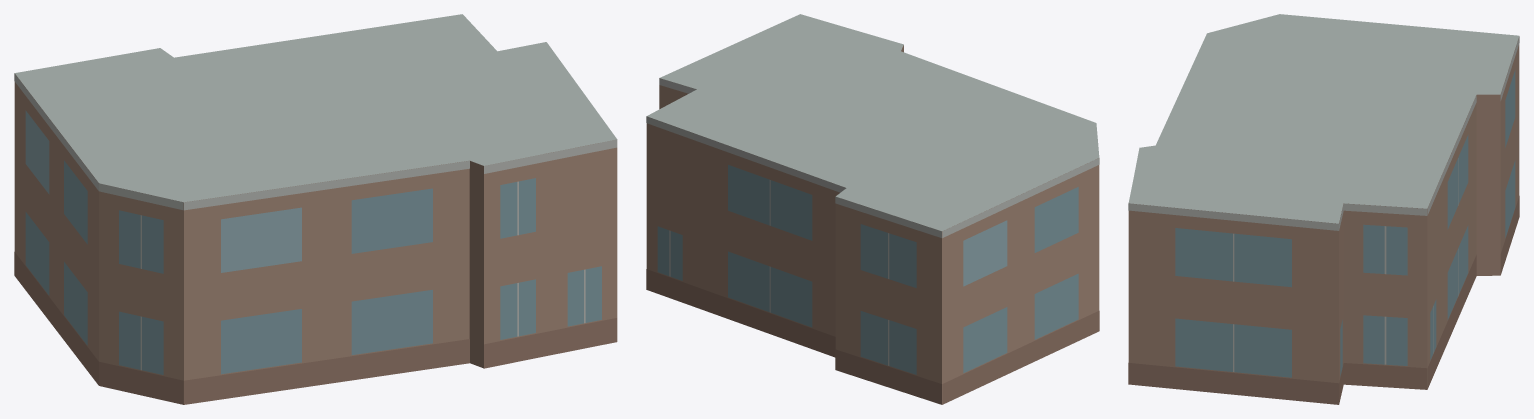
File: survey-upis-32968802.glb
The picture shows the model from 3 angles, left to right: view 1: azimuth 30°, elevation 25°; view 2: azimuth 150°, elevation 25°; view 3: azimuth 270°, elevation 25°; orthographic projection. The views are drawn at different scales.
Parts seen in each view (by area): view 1: survey-upis-32968802.tmp; view 2: survey-upis-32968802.tmp; view 3: survey-upis-32968802.tmp.
Part boxes in pixels (x1=…): survey-upis-32968802.tmp: x1=14, y1=14, x2=617, y2=404; survey-upis-32968802.tmp: x1=646, y1=14, x2=1099, y2=404; survey-upis-32968802.tmp: x1=1128, y1=14, x2=1519, y2=404.
Size of the model in its own units: 15.16 by 6.1 by 11.94.
